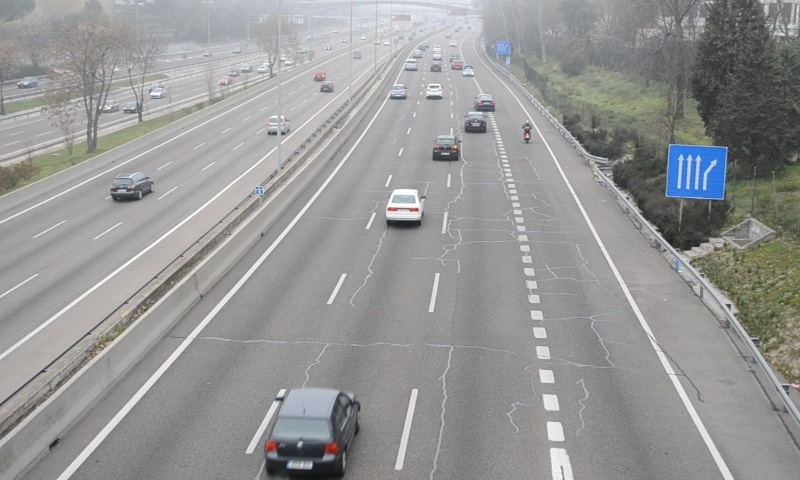car: (263, 387, 360, 480), (387, 187, 424, 222), (432, 135, 460, 161), (464, 111, 486, 133), (475, 94, 496, 110), (425, 82, 444, 99), (389, 84, 406, 99)
motorcycle: (522, 120, 534, 144)
